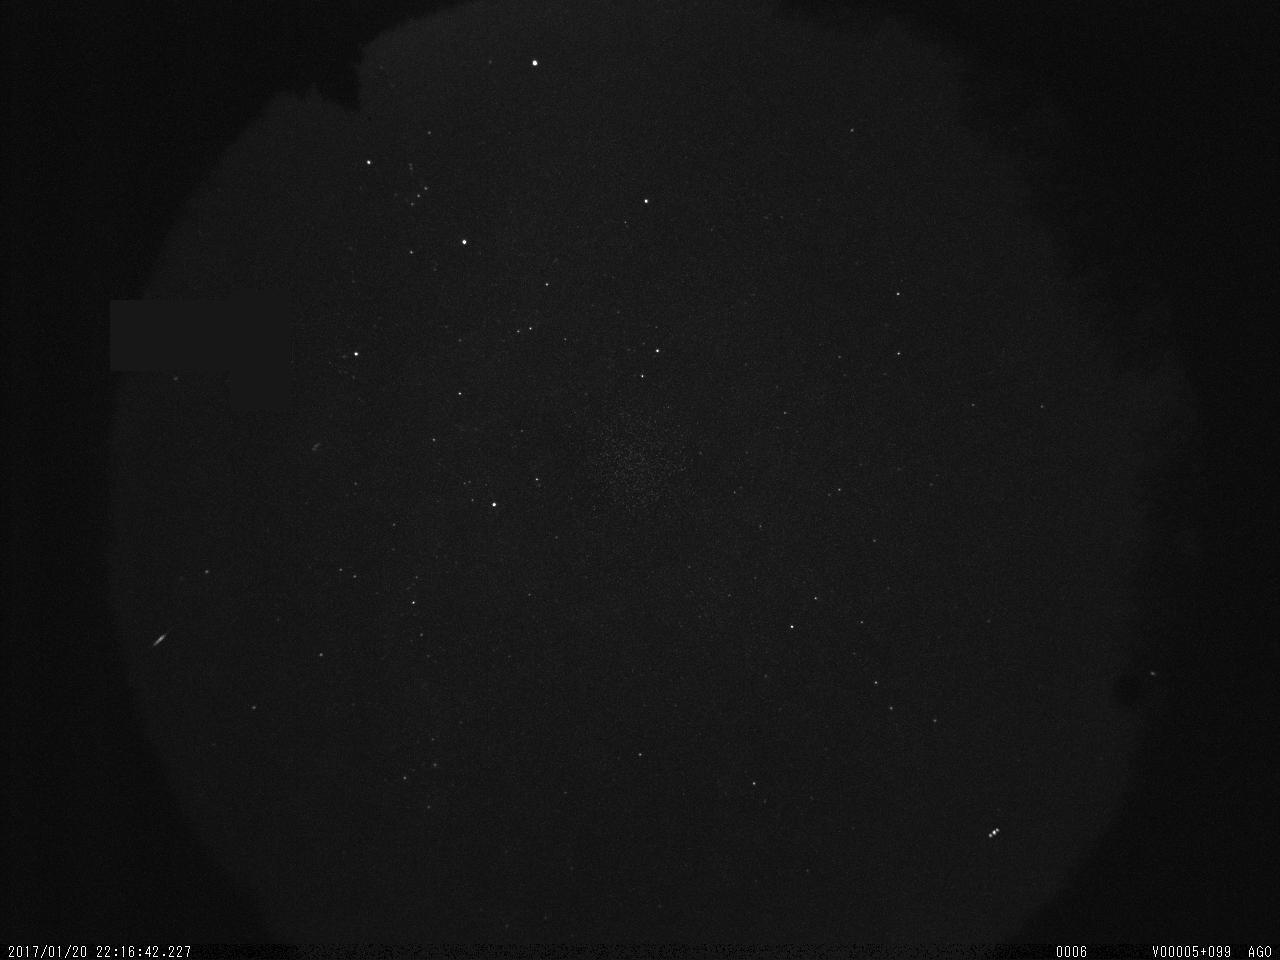meteor: (148, 624, 174, 652)
